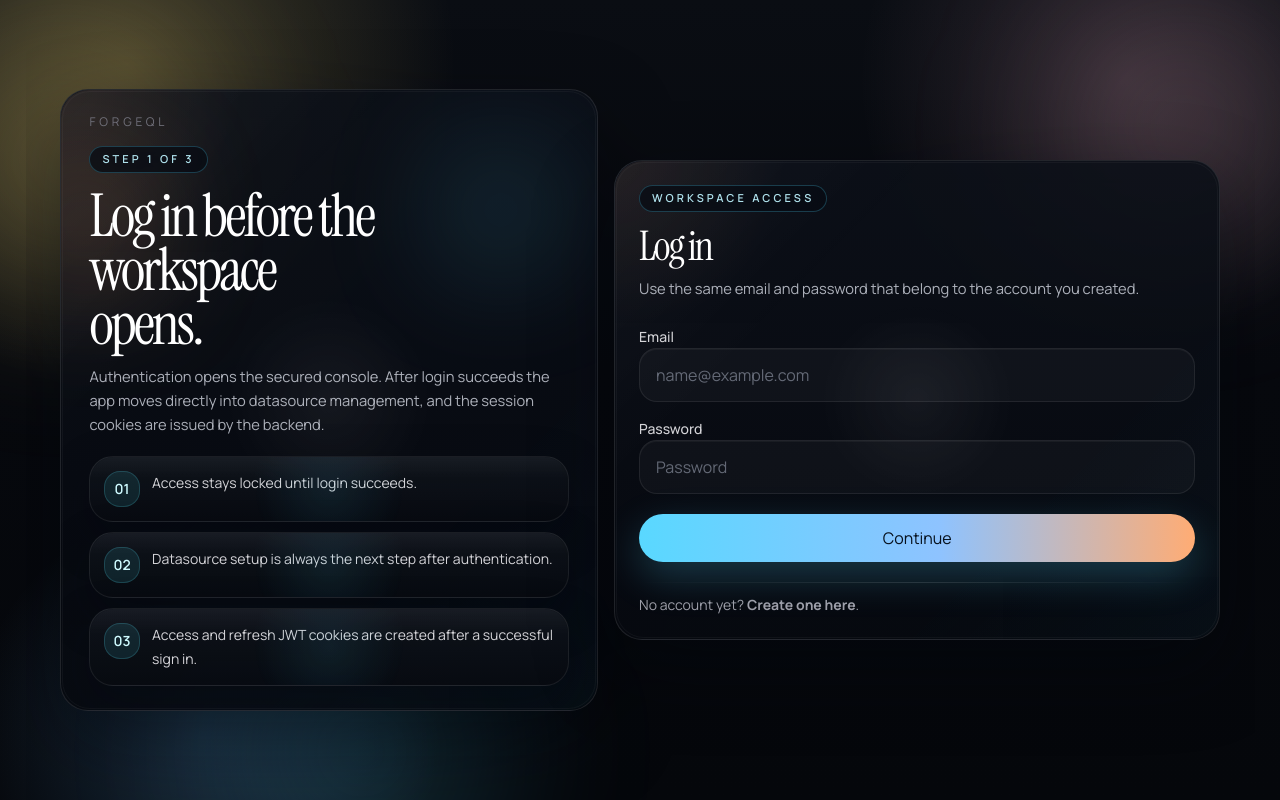
Test: auth flow › shows the backend login error when credentials are rejected
Type "user@example.com" into the field with placeholder "name@example.com" at (917, 374), box [639,348,1195,402]
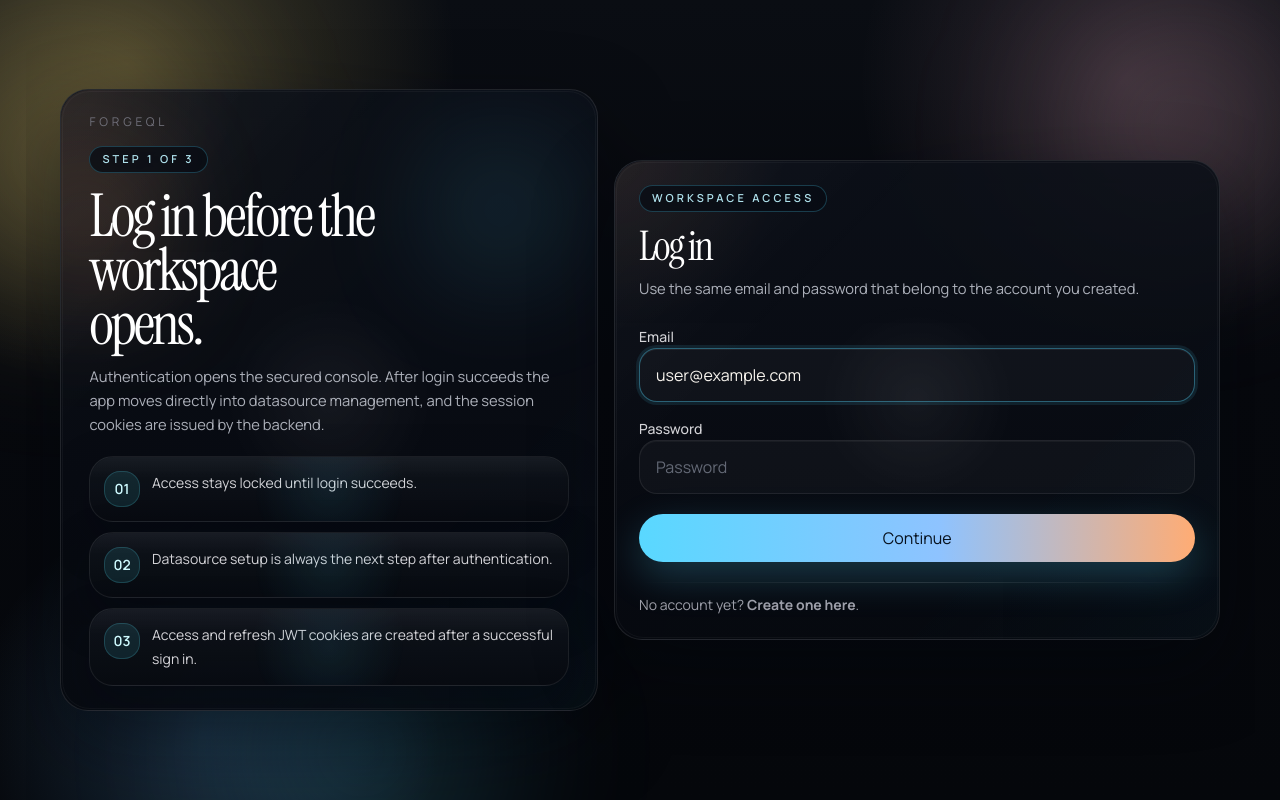
Type "wrong-password" into the password field with placeholder "Password" at (917, 466), box [639,440,1195,494]
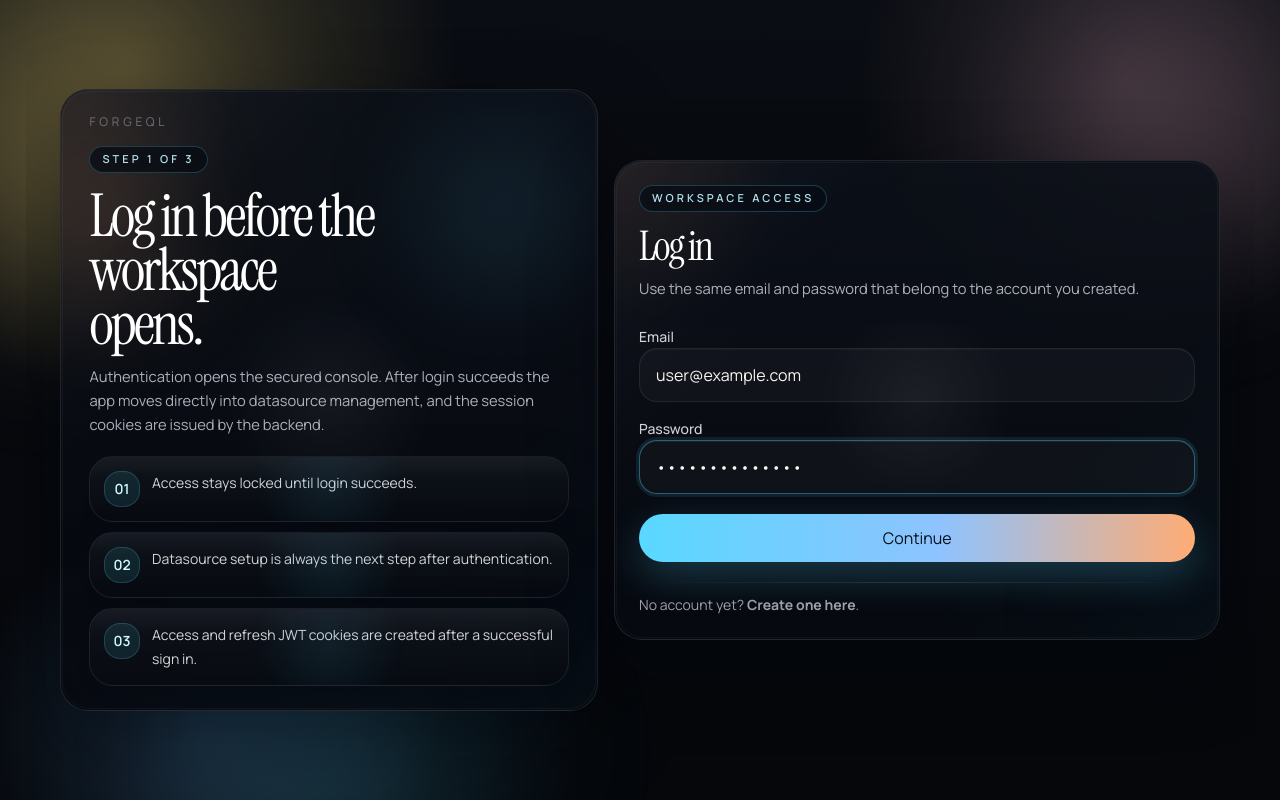
Click the button "Continue" at (917, 538), box [639,514,1195,562]
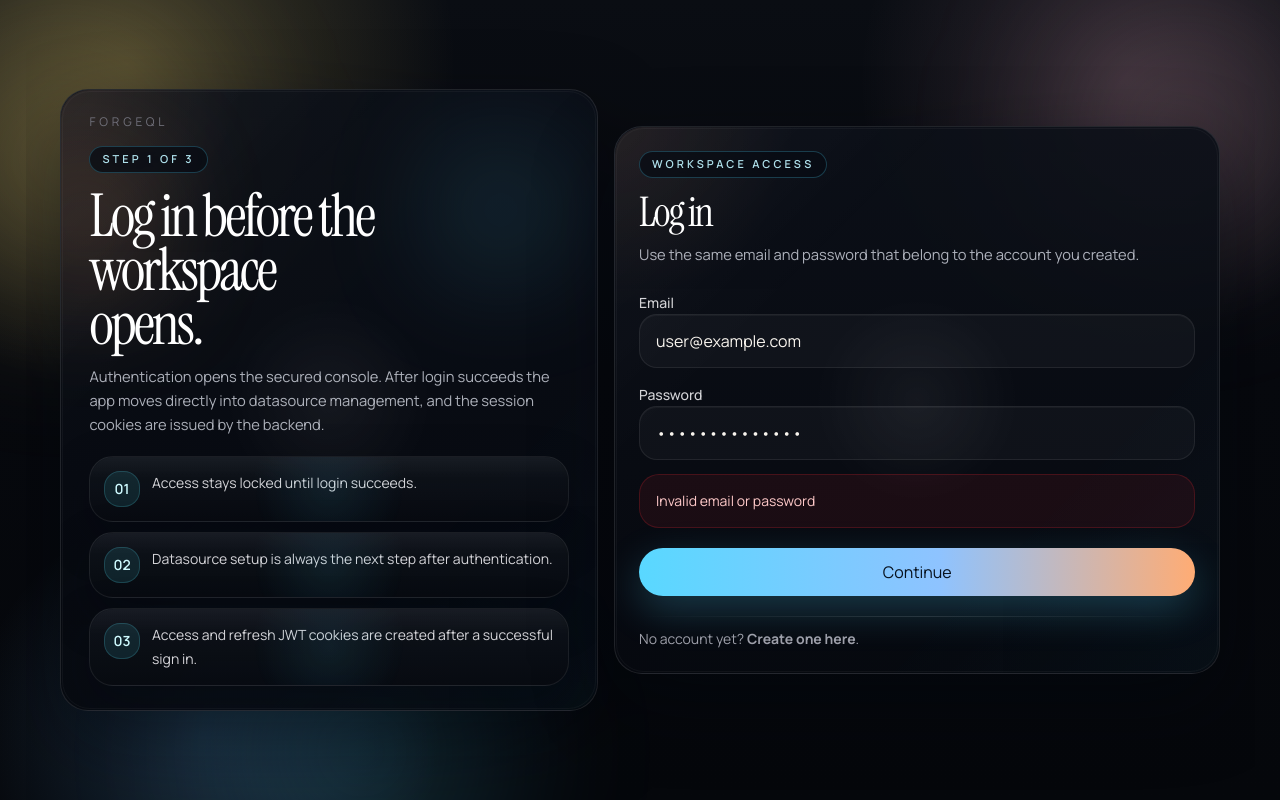
Check: the text "Invalid email or password" is shown, box [639,474,1195,528]
